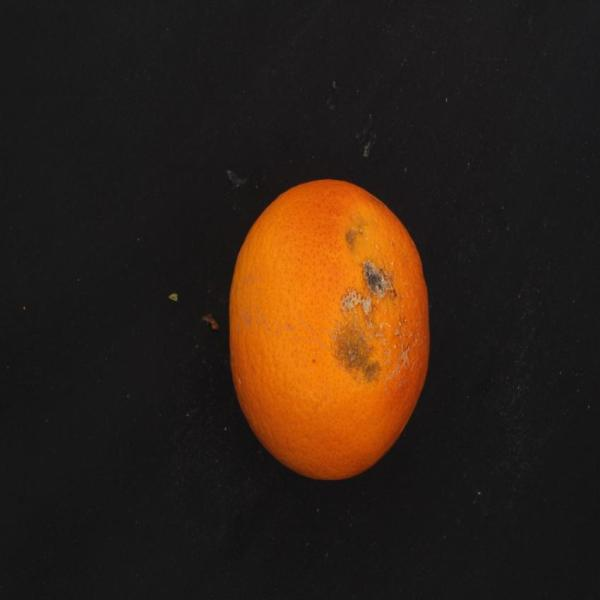Sana: (216, 155, 434, 491)
